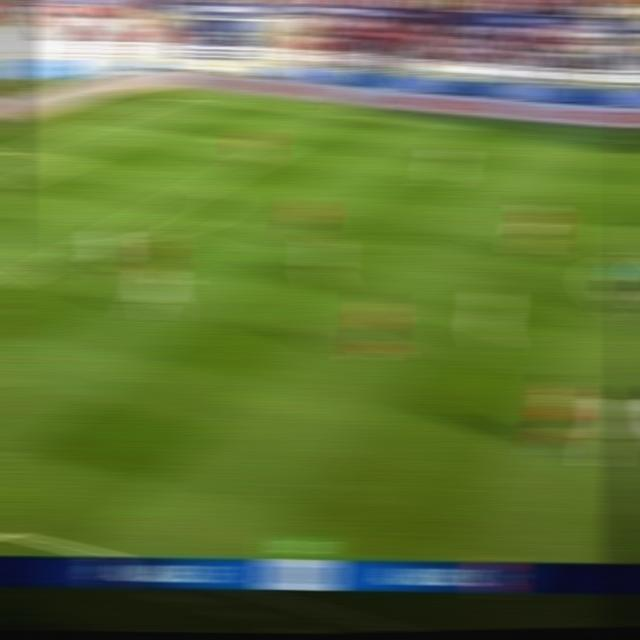bigarea_top_inner: (264, 140, 290, 154)
bigarea_top_outter: (85, 119, 110, 127)
bottom_arc_area_intersection: (72, 233, 113, 253)
corner: (164, 92, 190, 99)
smallarea_top_inner: (60, 156, 87, 164)
smallarea_top_outter: (0, 145, 25, 152)
top_arc_area_intersection: (194, 176, 222, 188)
